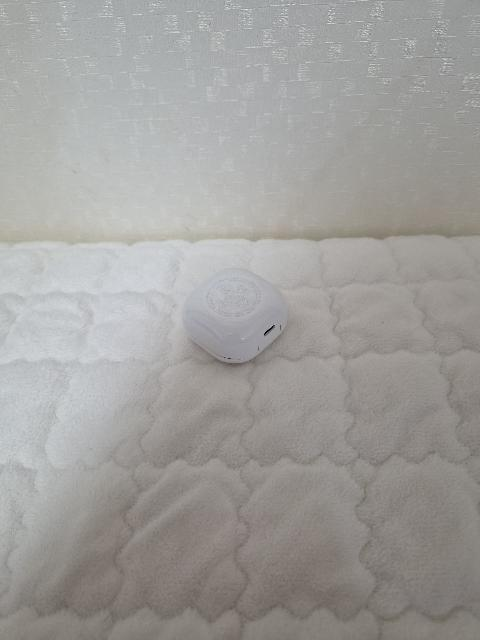earphone_case: (181, 268, 288, 364)
